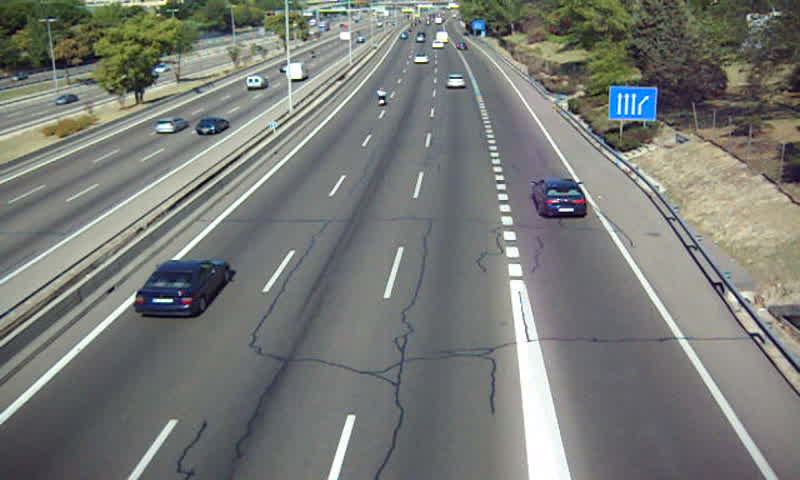car: (133, 260, 229, 317), (530, 177, 587, 218), (445, 74, 467, 89)
motorcycle: (374, 86, 389, 108)
